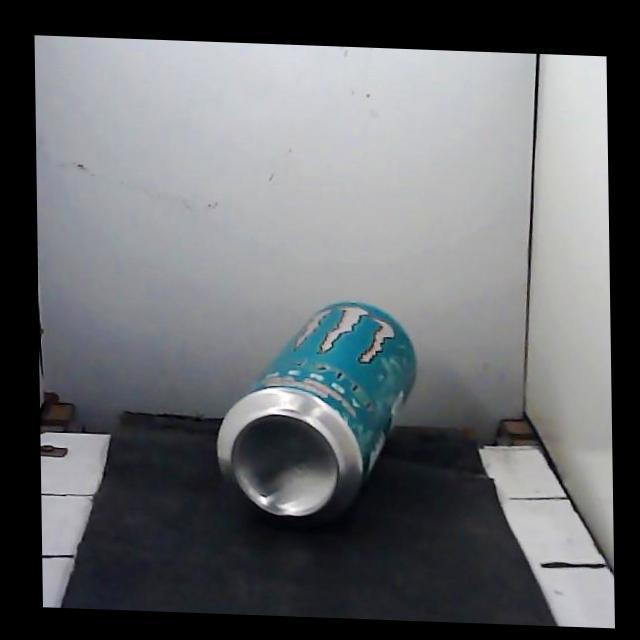metal: (217, 301, 415, 523)
